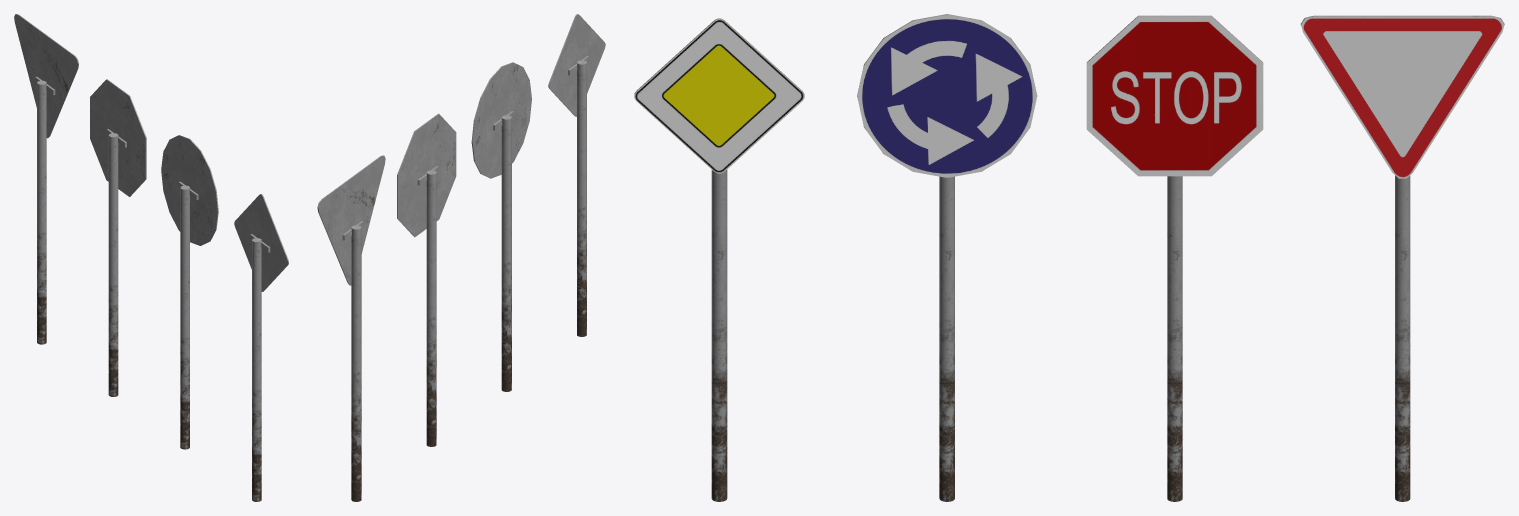
The picture shows the model from 3 angles, left to right: view 1: azimuth 30°, elevation 25°; view 2: azimuth 150°, elevation 25°; view 3: azimuth 270°, elevation 25°; orthographic projection. The views are drawn at different scales.
Parts seen in each view (by area): view 1: signs.002, signs.001, signs.003, signs; view 2: signs.002, signs.001, signs.003, signs; view 3: signs.002, signs.001, signs.003, signs.
Part boxes in pixels (bbox=[...]): signs.002: bbox=[90, 79, 146, 396]; signs.001: bbox=[161, 135, 218, 449]; signs.003: bbox=[14, 14, 78, 344]; signs: bbox=[234, 194, 288, 501]; signs.002: bbox=[397, 113, 456, 446]; signs.001: bbox=[471, 62, 531, 391]; signs.003: bbox=[317, 155, 385, 501]; signs: bbox=[548, 14, 605, 336]; signs.002: bbox=[1086, 15, 1263, 501]; signs.001: bbox=[857, 14, 1037, 501]; signs.003: bbox=[1300, 15, 1504, 501]; signs: bbox=[634, 18, 804, 501].
Bounding box in the file's own units: 7.58 × 236 × 382.
1 material, 1 textured.
